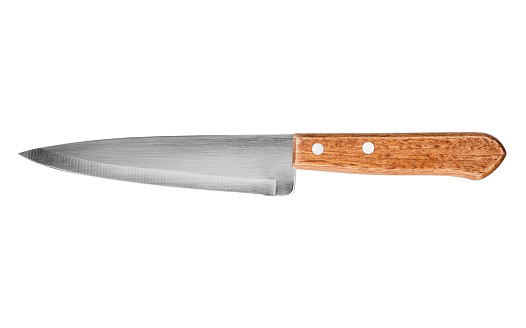knife: (13, 129, 508, 202)
